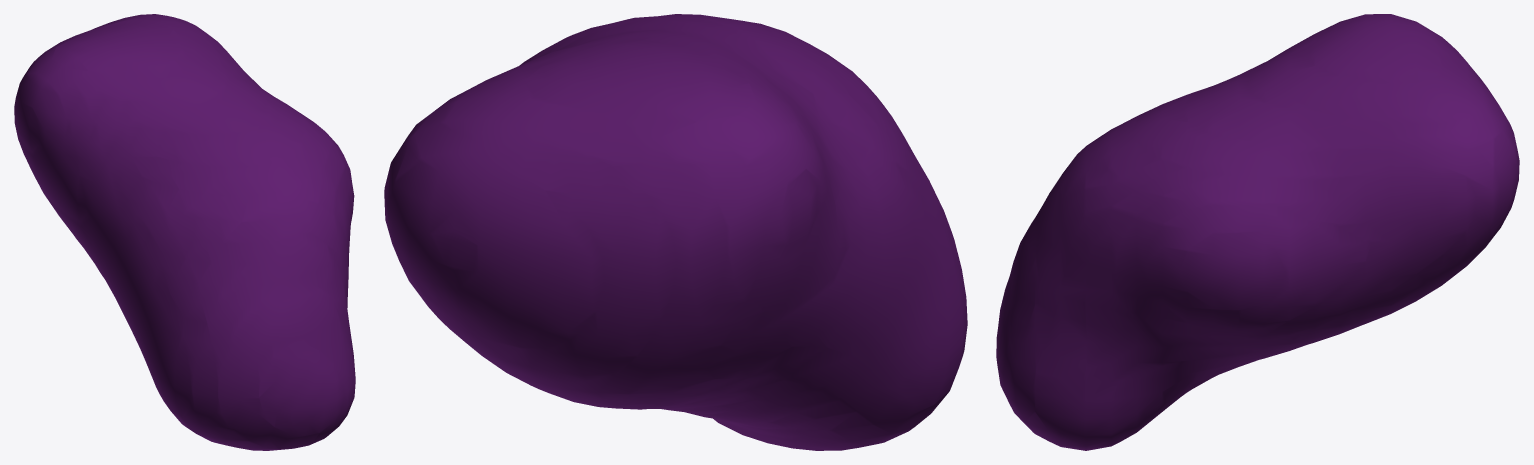
File: HIV1_SP1_hack_0_1_1.dae
3 views of the same model, side by side, from view 1: azimuth 30°, elevation 25°; view 2: azimuth 150°, elevation 25°; view 3: azimuth 270°, elevation 25° (orthographic). The views are drawn at different scales.
Visible parts, largest first — view 1: CoarseMS_HIV1_SP1_hack_0_1_0; view 2: CoarseMS_HIV1_SP1_hack_0_1_0; view 3: CoarseMS_HIV1_SP1_hack_0_1_0.
Part boxes in pixels (box(x1,y1,x2,y2)): CoarseMS_HIV1_SP1_hack_0_1_0: box(14, 14, 355, 450); CoarseMS_HIV1_SP1_hack_0_1_0: box(384, 14, 967, 450); CoarseMS_HIV1_SP1_hack_0_1_0: box(996, 14, 1519, 450).
Bounding box in the file's own units: 16.67 × 20.3 × 25.4.
